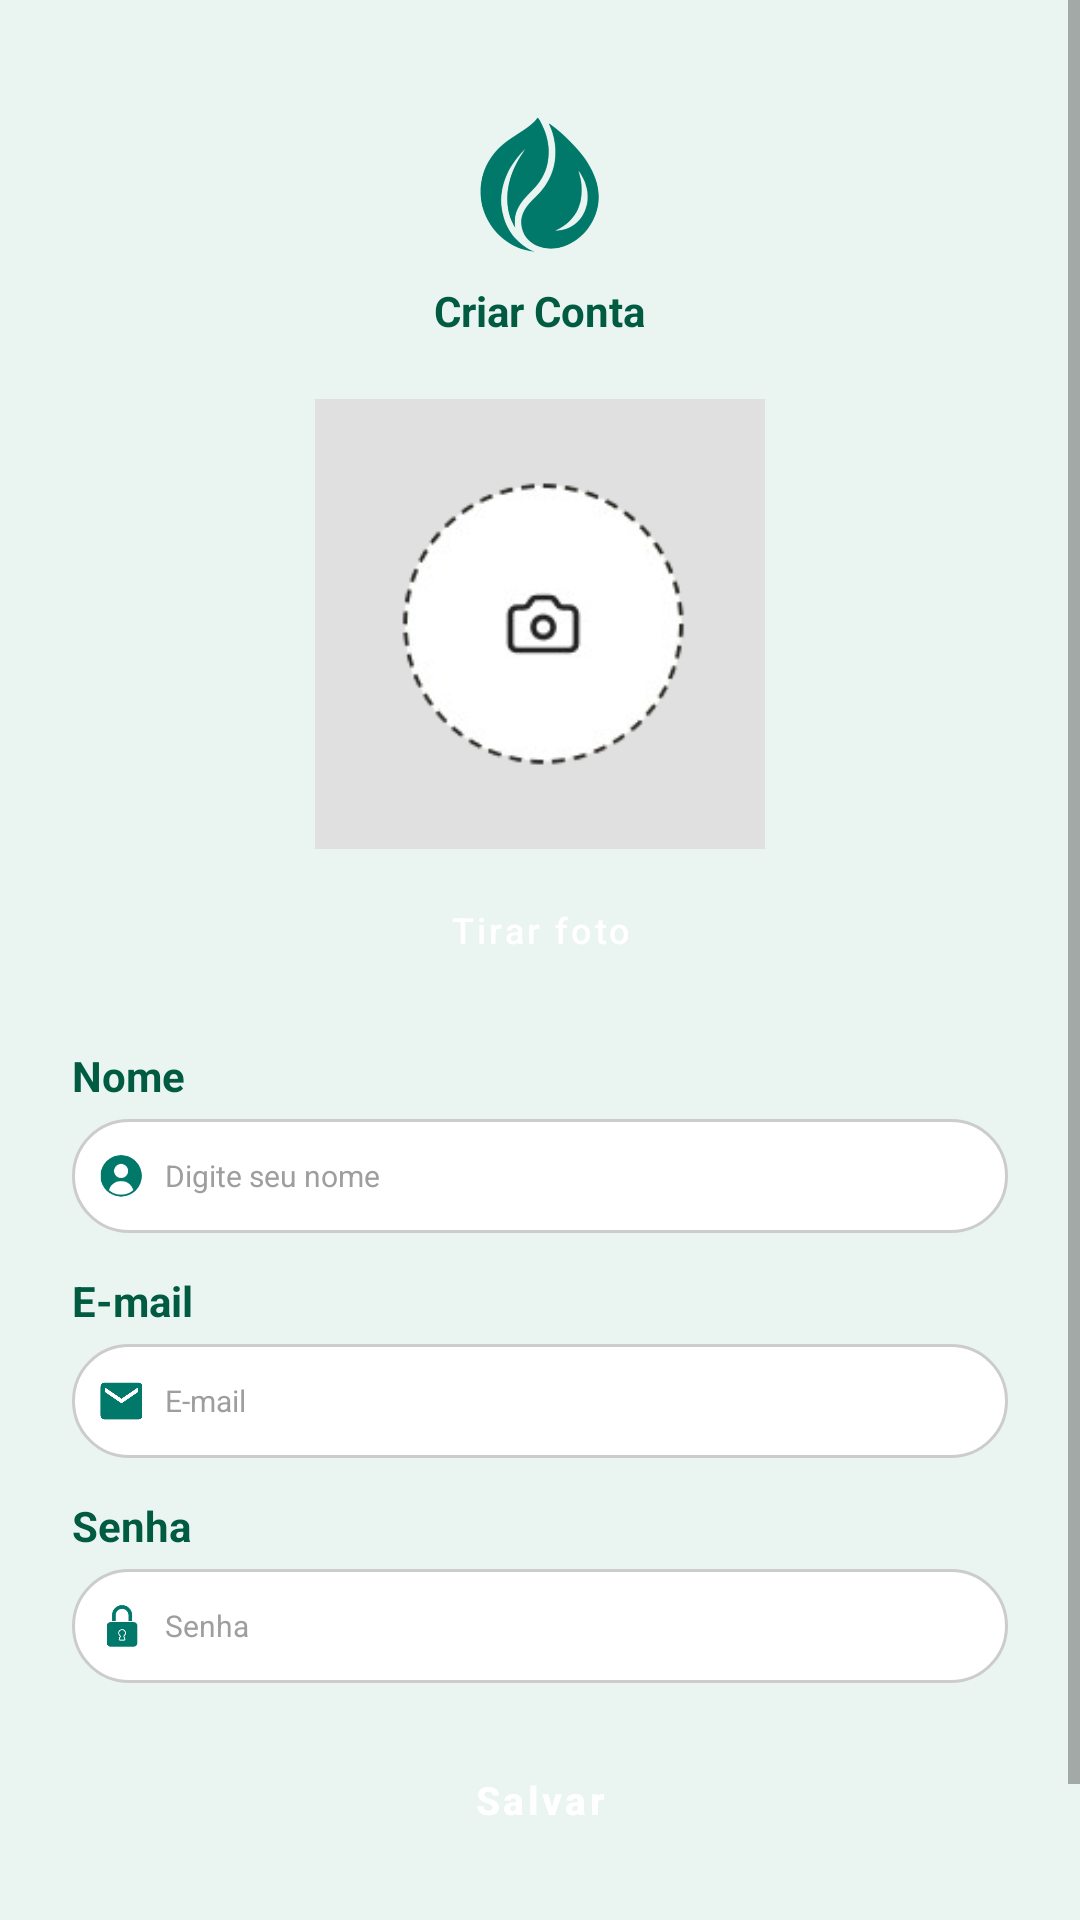

Icons on this 1080w x 1920h Android screen, each with the point to tap as [x,y]:
leaf: [539,184]
lock: [122,1626]
